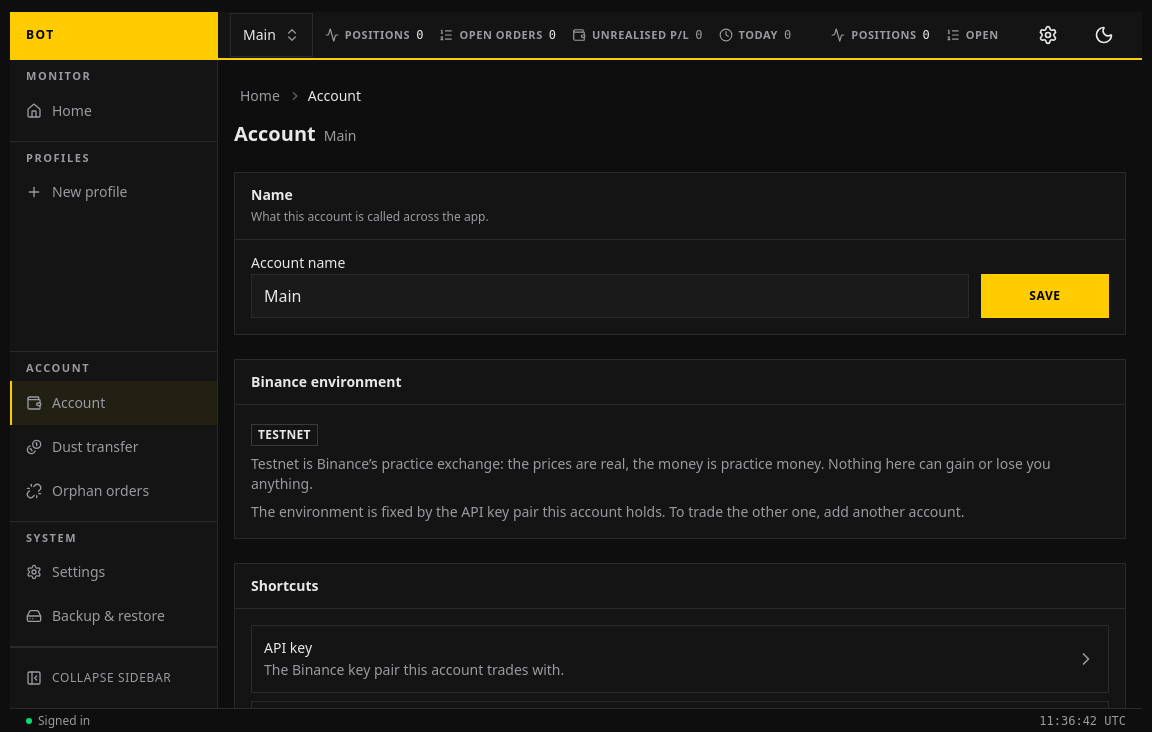
/accounts/$accountId/settings › submitting a rename PATCHes the account and the switcher shows the new name
This screenshot has width=1152, height=732.
Replace the text in the field with test id "account-name-input" with "Spot live": (610, 296) [251,274,969,318]
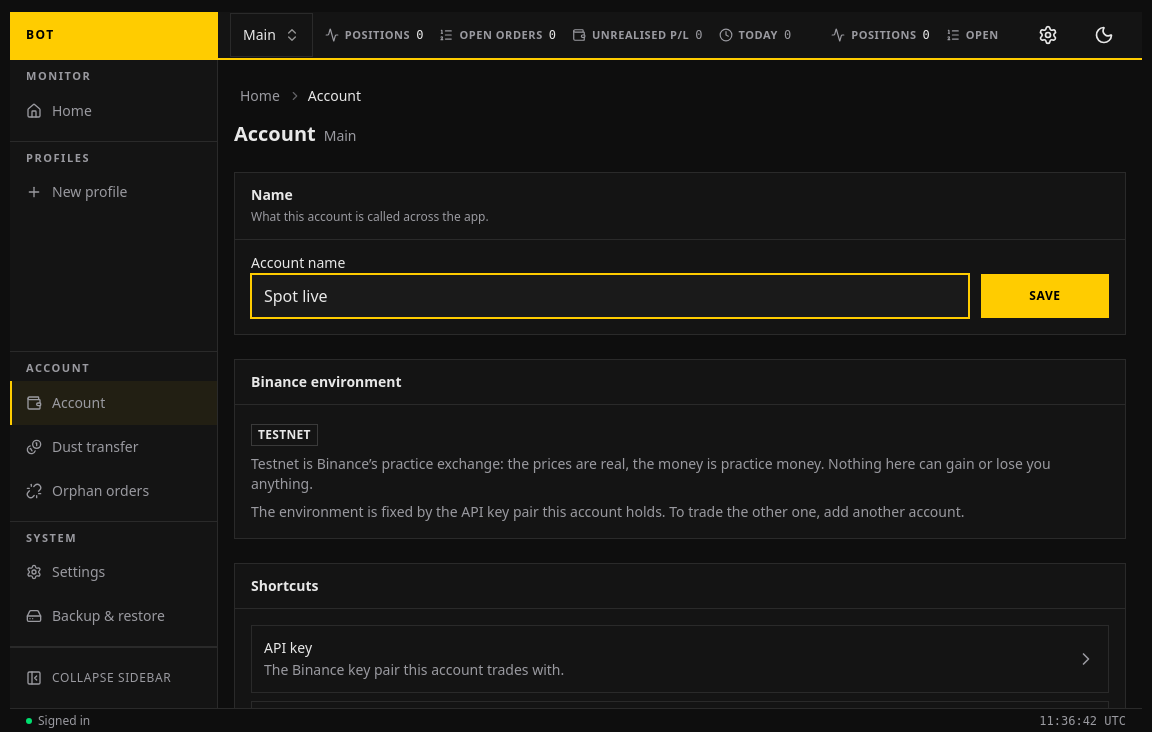
Click the button "Save": (1045, 296) [981,274,1109,318]
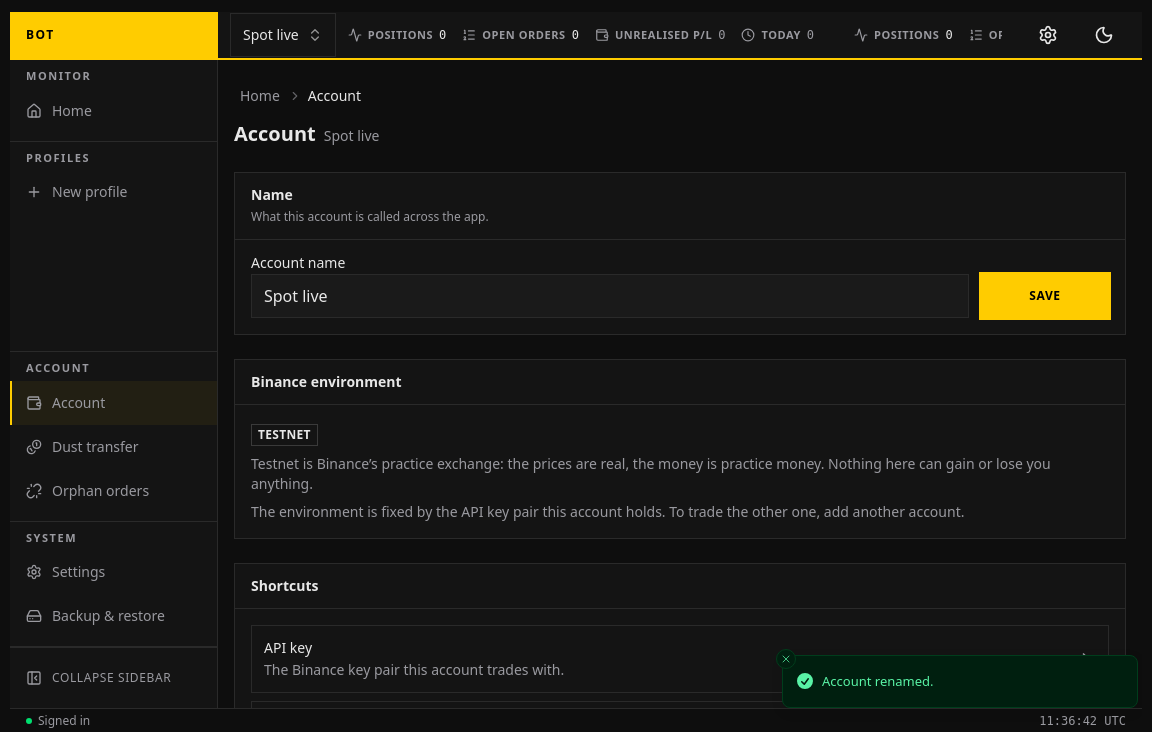
expect the text "Spot live" in the row of "Unrealised P/L" is shown: met, box [243,25,299,44]
